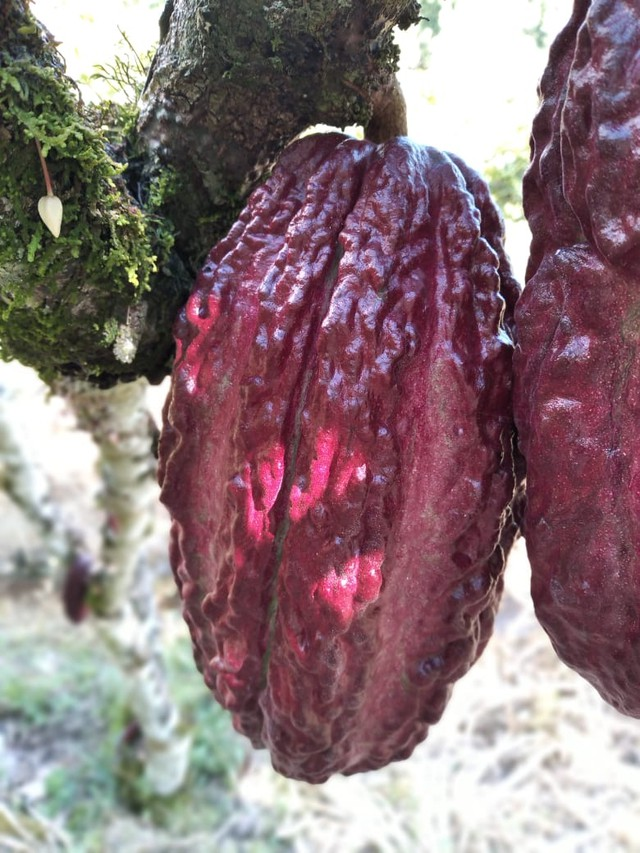Health: (153, 126, 527, 791)
